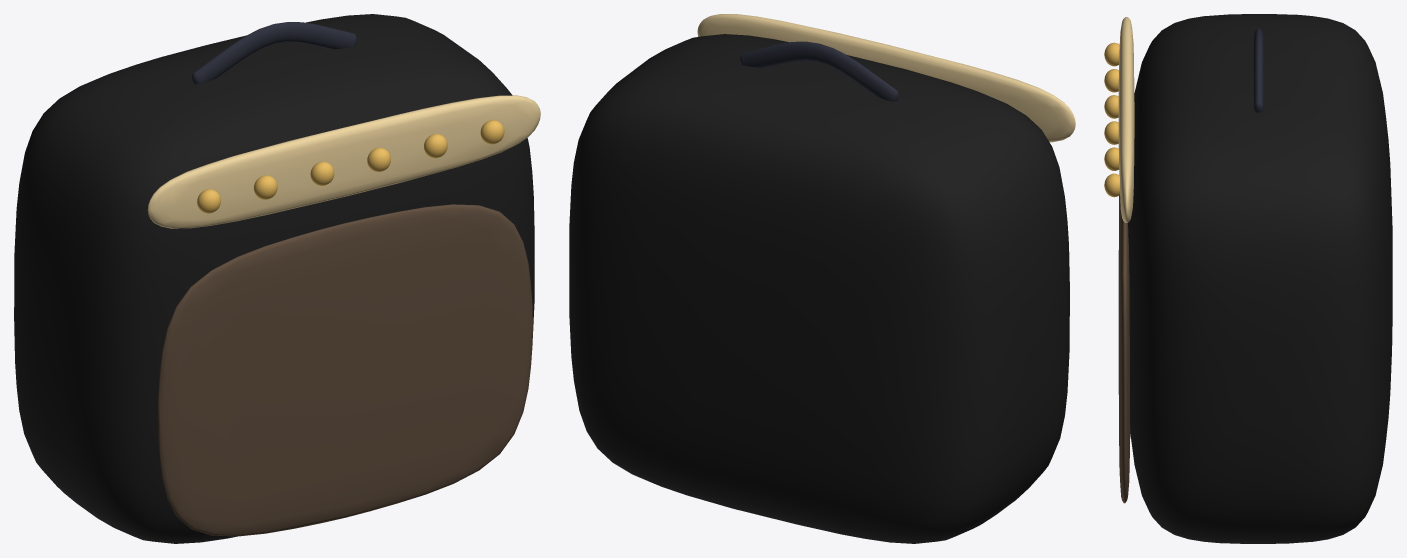
File: deco_amplificador.glb
3 renders of one model, left to right at view 1: azimuth 30°, elevation 25°; view 2: azimuth 150°, elevation 25°; view 3: azimuth 270°, elevation 25°, orthographic. The views are drawn at different scales.
Parts seen in each view (by area): view 1: caja amp.001, parrilla.001, panel amp.001, asa amp.001; view 2: caja amp.001, panel amp.001, asa amp.001; view 3: caja amp.001, parrilla.001, panel amp.001, asa amp.001.
Boxes of the visible parts, x1,y1,x2,y2 form: caja amp.001: [14, 14, 534, 543]; parrilla.001: [157, 204, 532, 536]; panel amp.001: [147, 95, 540, 228]; asa amp.001: [192, 22, 356, 84]; caja amp.001: [569, 34, 1069, 543]; panel amp.001: [697, 14, 1075, 142]; asa amp.001: [740, 41, 898, 101]; caja amp.001: [1128, 14, 1392, 543]; parrilla.001: [1118, 195, 1130, 503]; panel amp.001: [1118, 17, 1134, 222]; asa amp.001: [1253, 28, 1263, 112].
Size of the model in its own units: 0.4798 by 0.4779 by 0.2793.
